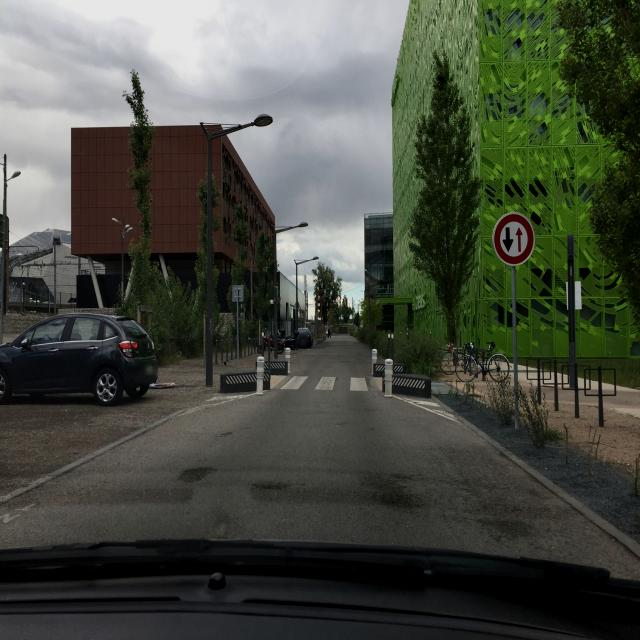bike: (468, 349, 504, 380)
car: (0, 310, 160, 407), (295, 326, 313, 348), (280, 331, 297, 350)
